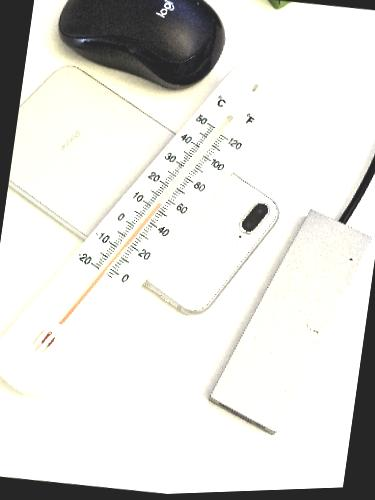thermo: (0, 51, 299, 401)
